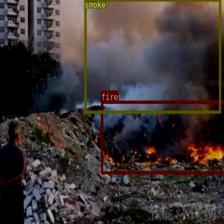fire: (101, 100, 224, 173)
smoke: (84, 0, 220, 113)
